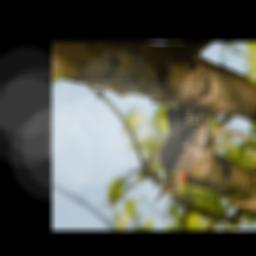Woodpecker: (154, 98, 207, 202)
